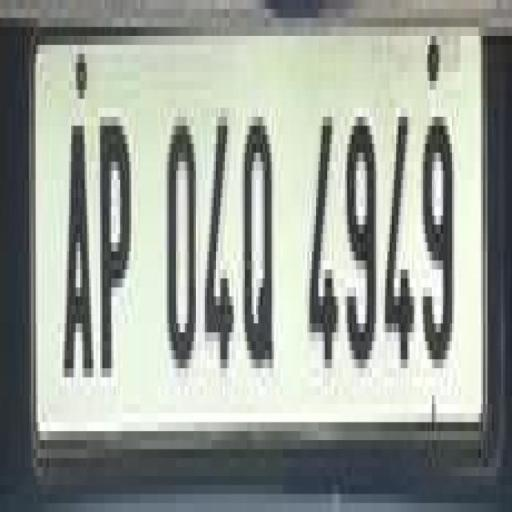number plate: (28, 0, 506, 467)
